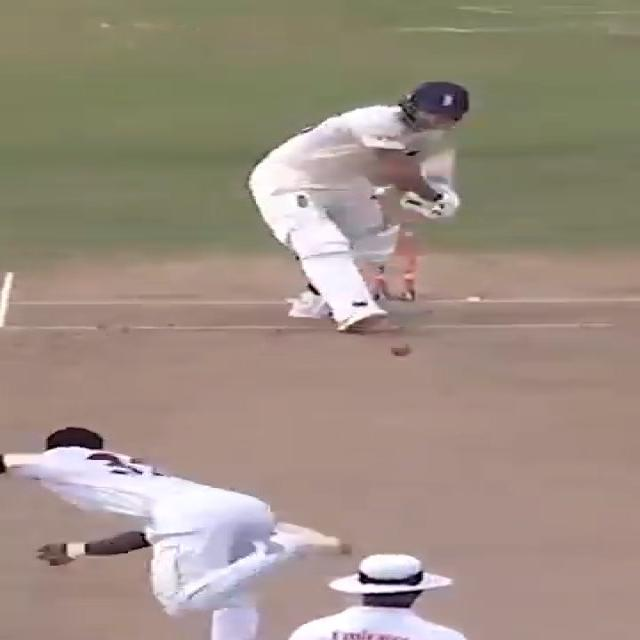Cricket ball: (386, 341, 419, 358)
